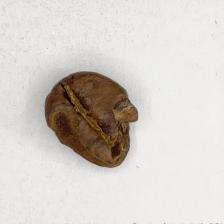NG: (52, 95, 139, 167)
